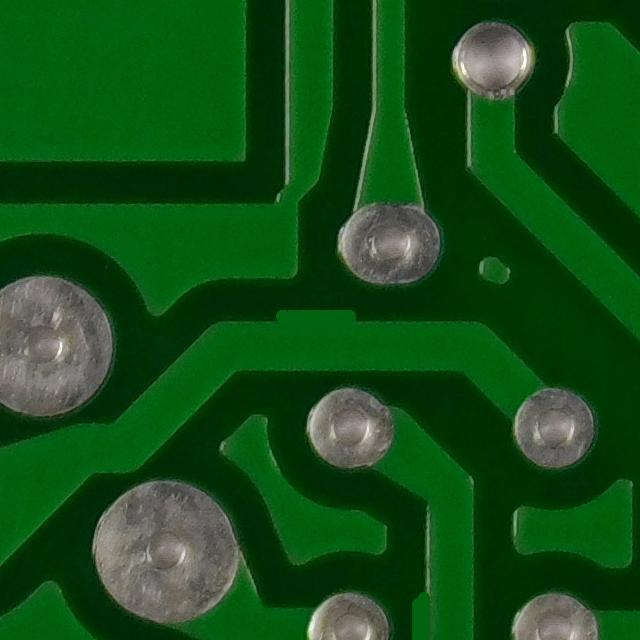spur: (262, 292, 379, 349)
